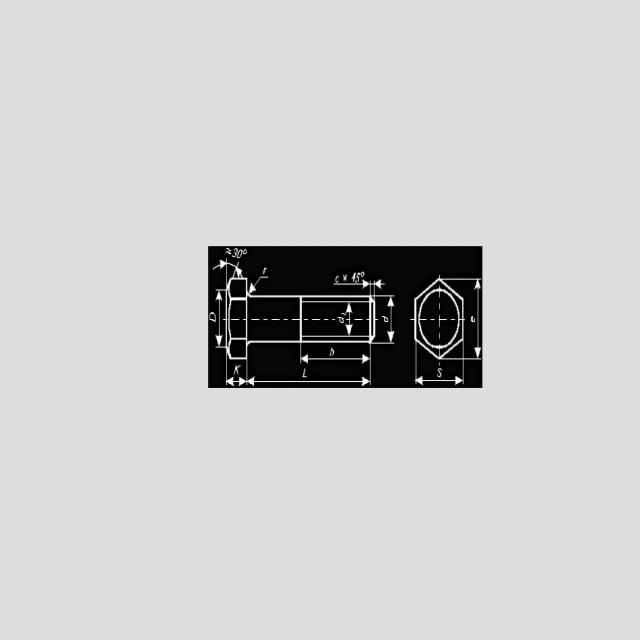marking_line: (248, 376, 371, 389), (301, 355, 370, 364), (416, 375, 463, 386), (475, 280, 480, 358), (216, 292, 223, 347), (387, 297, 395, 342), (346, 302, 354, 335), (333, 282, 369, 288), (227, 376, 246, 386), (375, 280, 386, 290)
numeric: (233, 248, 244, 259), (352, 272, 361, 283)
special_symbol: (213, 260, 246, 277), (249, 274, 270, 295)
